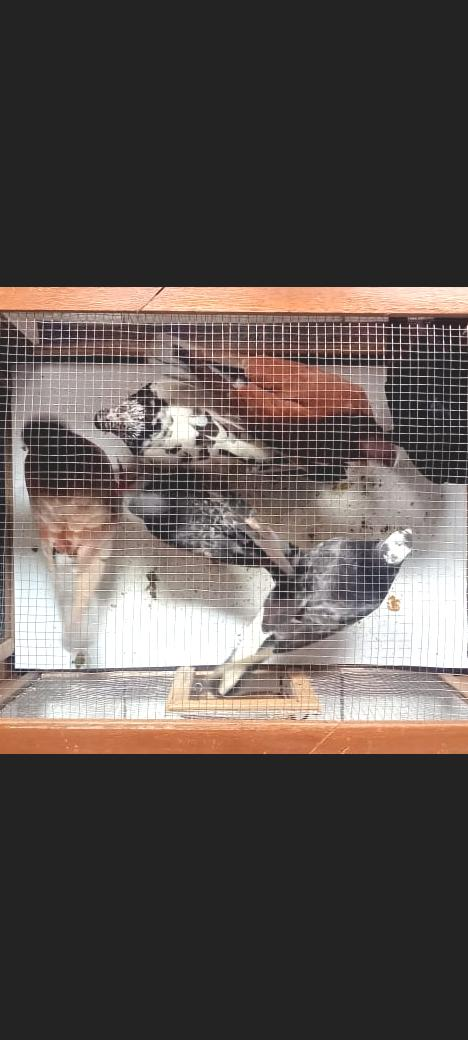Merpati: (198, 526, 414, 695), (147, 330, 398, 465), (94, 380, 344, 483), (22, 413, 118, 650), (124, 475, 307, 584), (384, 314, 468, 485)
